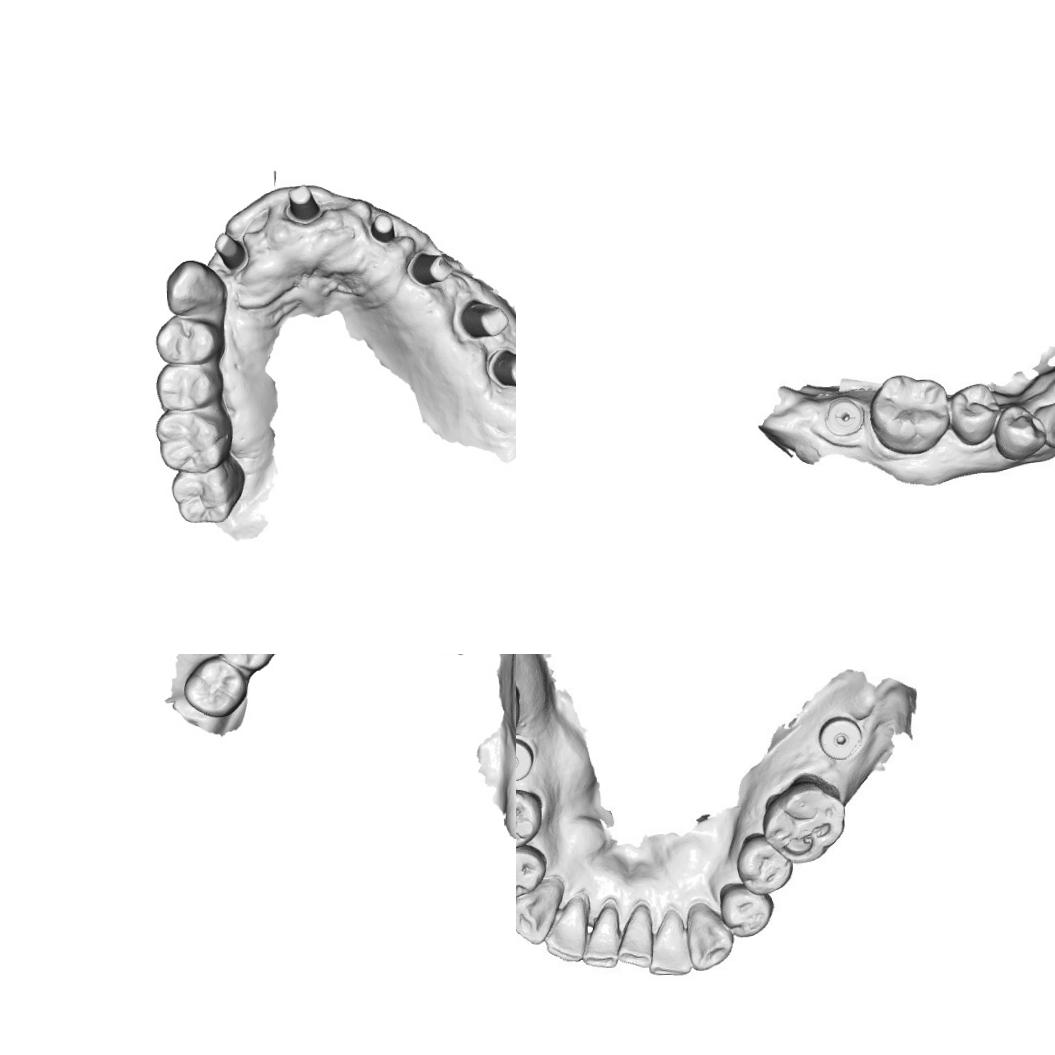abutment: (458, 295, 510, 343), (405, 247, 456, 289), (284, 182, 325, 228), (213, 230, 250, 270), (486, 345, 516, 392), (369, 211, 399, 244)
canine: (162, 256, 227, 316), (682, 900, 734, 974), (516, 880, 558, 949), (1039, 401, 1055, 449)
implant: (818, 715, 862, 759), (516, 735, 536, 781)
implant_minus: (824, 398, 864, 438)
incisor: (652, 912, 693, 978), (546, 898, 586, 960), (618, 909, 658, 960), (585, 905, 620, 961)
molar: (761, 775, 847, 866), (866, 371, 954, 454), (170, 458, 247, 528), (154, 407, 232, 475), (180, 654, 250, 721), (214, 654, 282, 673)
premolar: (152, 314, 224, 368), (948, 380, 1002, 450), (732, 832, 791, 896), (152, 361, 226, 412), (718, 878, 776, 939), (995, 402, 1046, 465), (516, 786, 541, 850), (516, 845, 544, 900)
